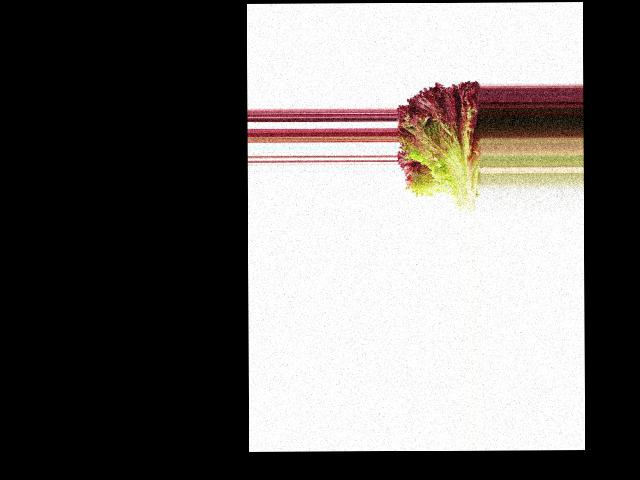lettuce: (397, 98, 483, 209)
